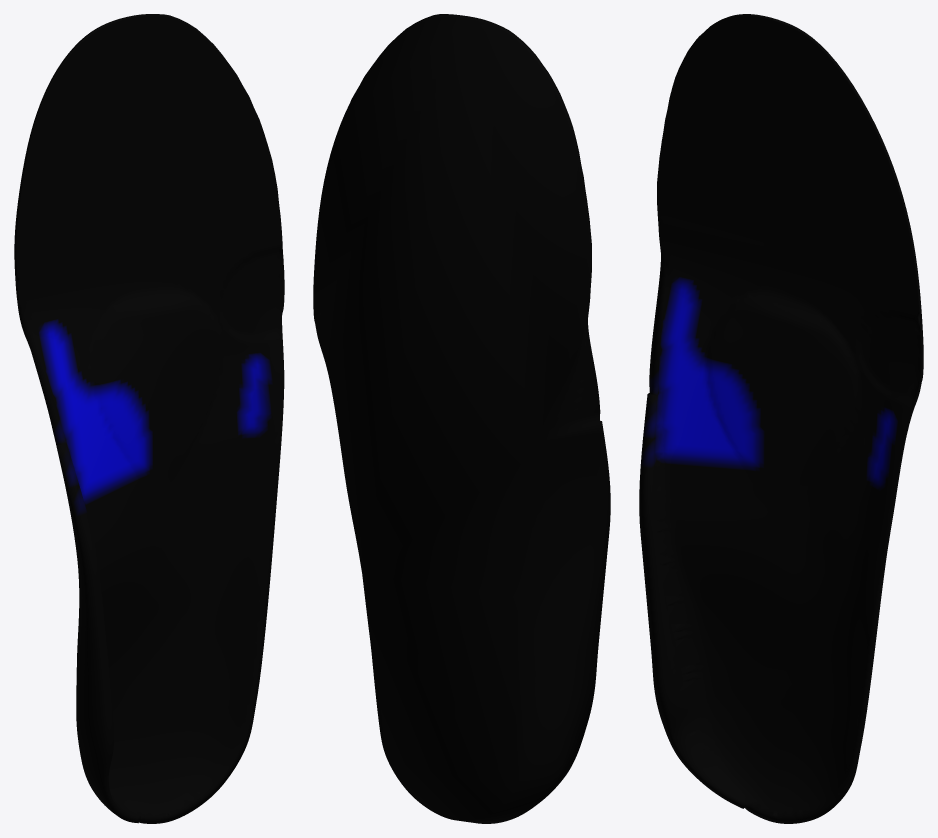
Rendered from CPO-307064_RIGHT.glb.
The picture shows the model from 3 angles, left to right: view 1: azimuth 30°, elevation 25°; view 2: azimuth 150°, elevation 25°; view 3: azimuth 330°, elevation 25°; orthographic projection. The views are drawn at different scales.
Parts seen in each view (by area): view 1: geometry_0; view 2: geometry_0; view 3: geometry_0.
Boxes of the visible parts, x1,y1,x2,y2 form: geometry_0: (14, 14, 284, 823); geometry_0: (313, 14, 610, 823); geometry_0: (639, 14, 923, 823).
Size of the model in its own units: 112 by 317 by 33.6.
